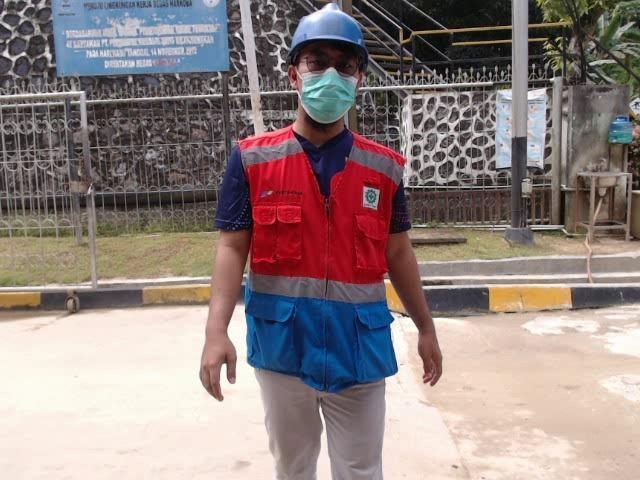helmet: (289, 0, 371, 62)
